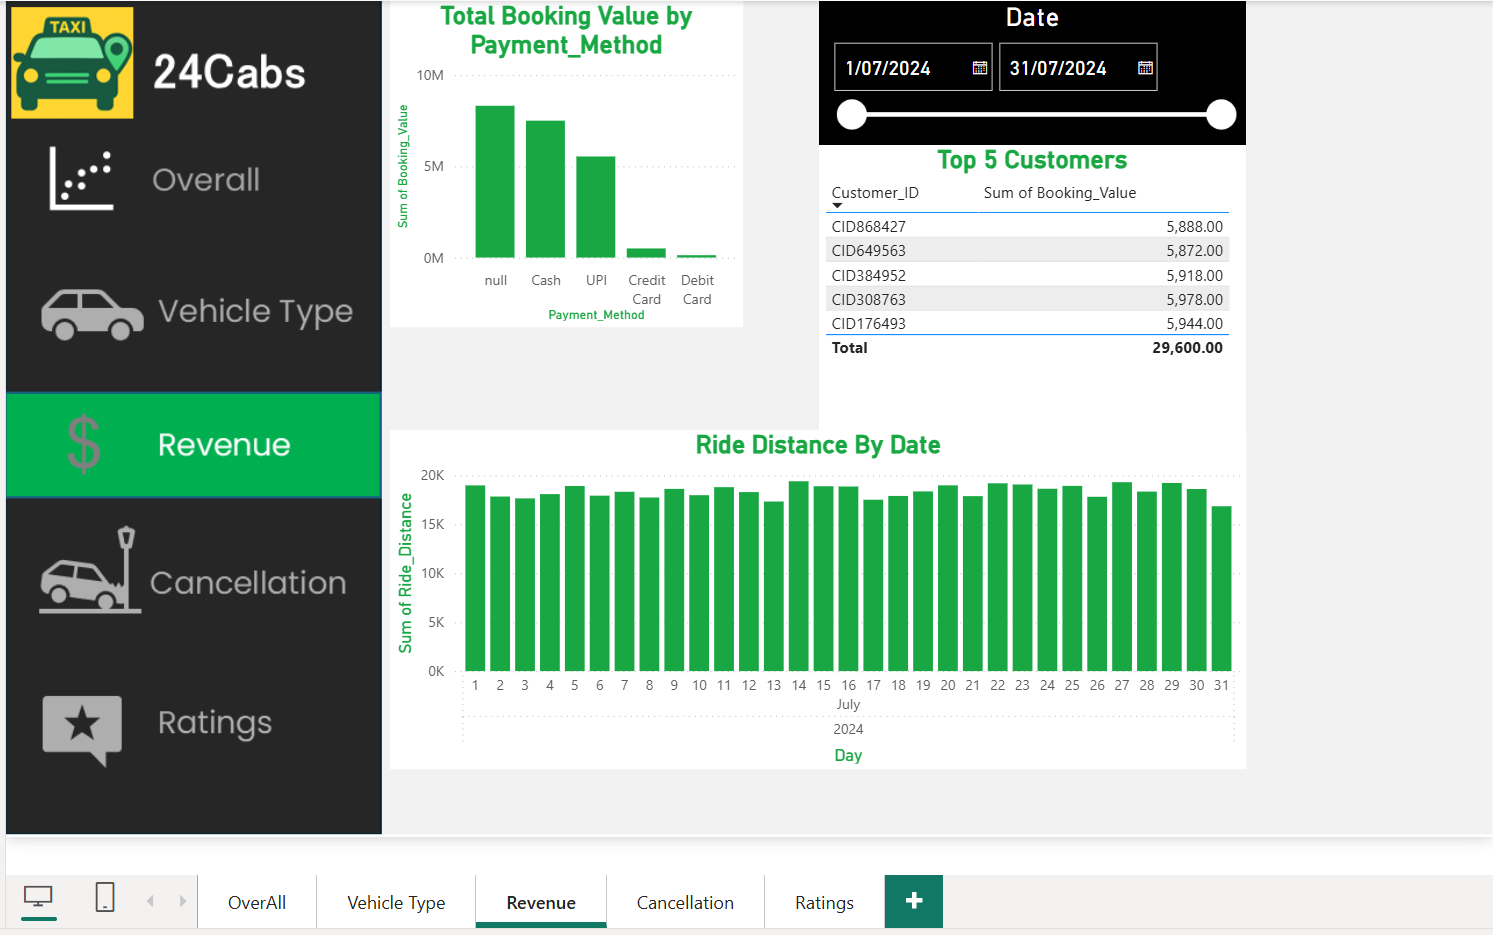

This screenshot's page, from the dashboard's own definition file:
{"tool":"powerbi","page":{"name":"Revenue","canvas":[1280,720],"ordinal":2},"visuals":[{"type":"columnChart","title":"Total Booking Value by Payment_Method","fields":{"Y":["Sum(July.Booking_Value)"],"Category":["July.Payment_Method"]},"box":[331.2,0,303.9,280.5],"z":0},{"type":"columnChart","title":"Ride Distance By Date","fields":{"Y":["Sum(July.Ride_Distance)"],"Category":["July.Date.Variation.Date Hierarchy.Year","July.Date.Variation.Date Hierarchy.Month","July.Date.Variation.Date Hierarchy.Day"]},"box":[331.2,368.8,737.7,292.2],"z":1000},{"type":"slicer","title":"Date","fields":{"Values":["July.Date"]},"box":[700,0,367.5,123.4],"z":2000},{"type":"tableEx","title":"Top 5 Customers","fields":{"Values":["July.Customer_ID","Sum(July.Booking_Value)"]},"box":[700,123.4,367.5,245.5],"z":3000}]}

Visuals, with their boxes on the page's 1280x720 design canvas (x1, y1, x2, y2). These are canvas units, not pixel positions in the 1493x935 screenshot, which may show the page scaled, cropped or inside an application window:
"Total Booking Value by Payment_Method" columnChart: pyautogui.locateOnScreen(331, 0, 635, 280)
"Ride Distance By Date" columnChart: pyautogui.locateOnScreen(331, 369, 1069, 661)
"Date" slicer: pyautogui.locateOnScreen(700, 0, 1068, 123)
"Top 5 Customers" tableEx: pyautogui.locateOnScreen(700, 123, 1068, 369)
